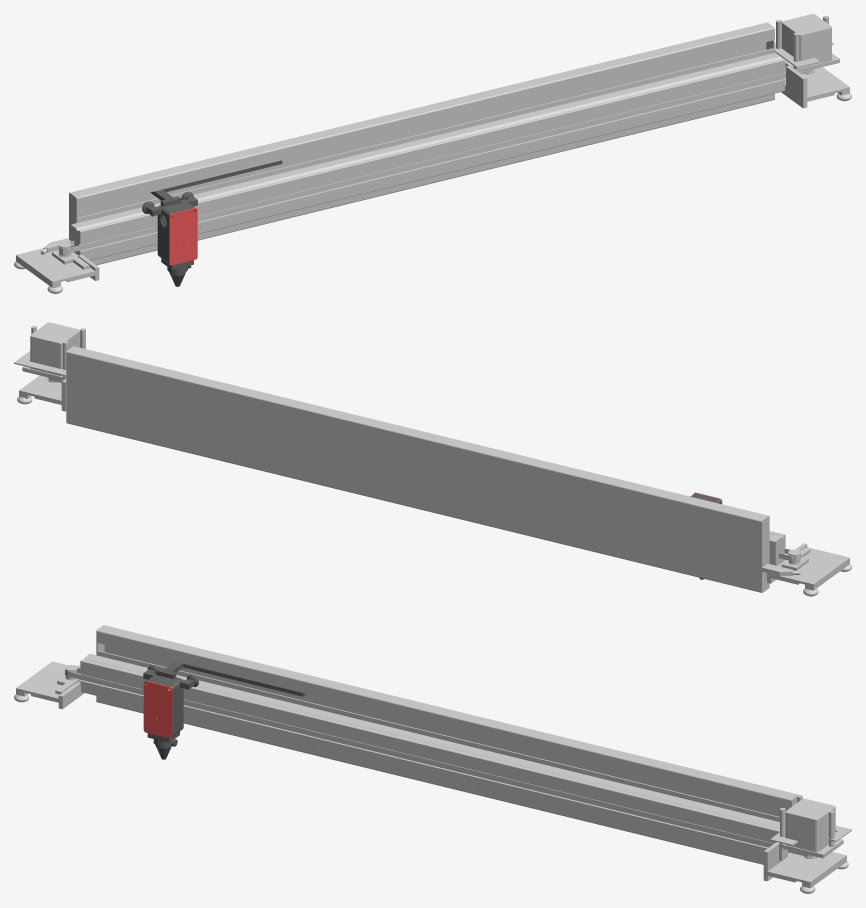
Rendered from xrail.obj.
The picture shows the model from 3 angles, top to bottom: view 1: azimuth 30°, elevation 25°; view 2: azimuth 150°, elevation 25°; view 3: azimuth 330°, elevation 25°; orthographic projection.
Parts seen in each view (by area): view 1: object_1, object_2; view 2: object_1, object_2; view 3: object_1, object_2.
Part boxes in pixels (x1,y1,x2,y2): object_1: (14, 14, 851, 293); object_2: (52, 160, 282, 286); object_1: (14, 322, 851, 596); object_2: (690, 493, 810, 579); object_1: (14, 625, 851, 893); object_2: (55, 662, 306, 759).
Bounding box in the file's own units: 39.87 × 4.73 × 3.55.
